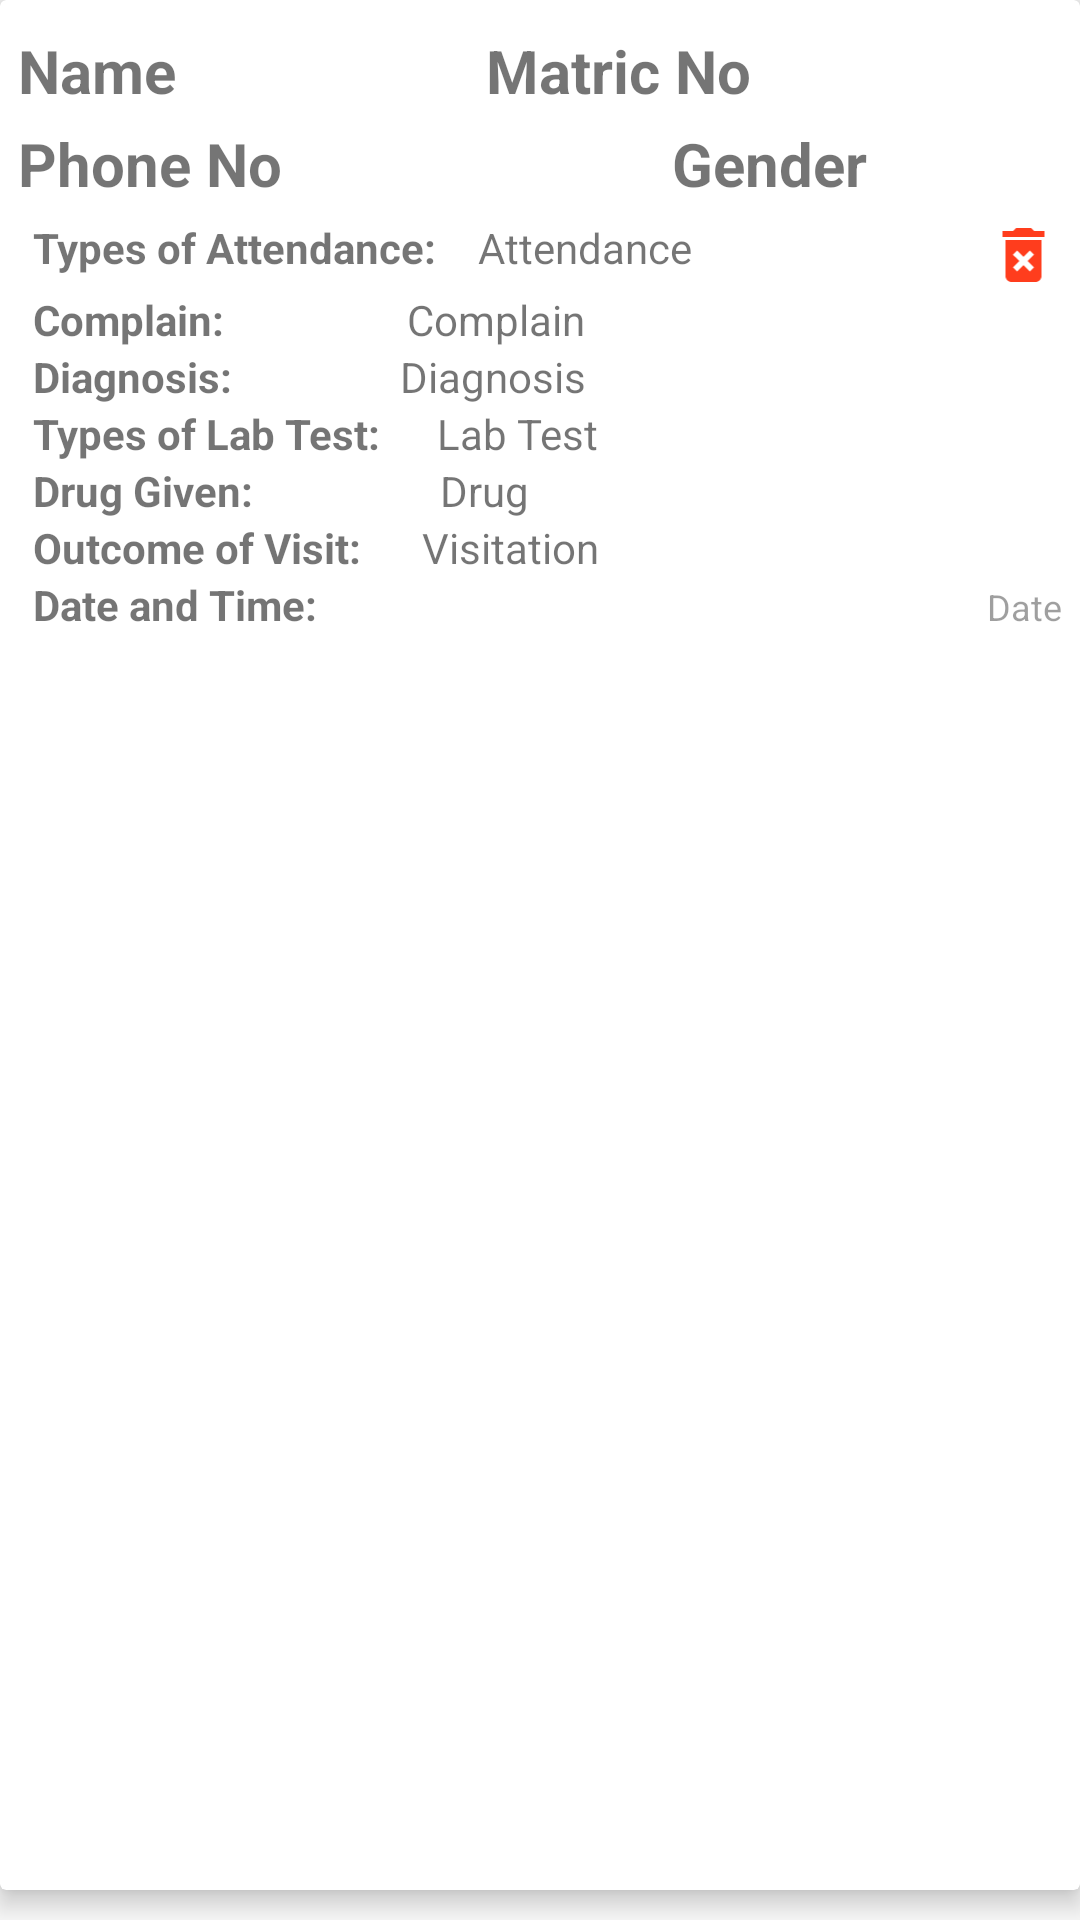

Where to tap for icons on this 1080x1920 app screen, as [x,y]:
delete forever: [1023,255]
